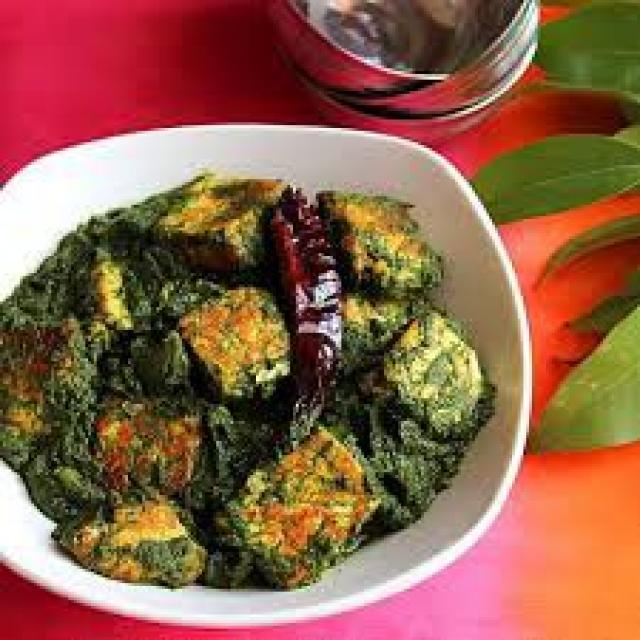Palak Paneer: (0, 171, 509, 597)
